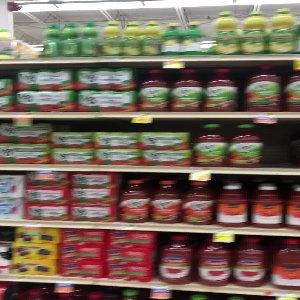void: (263, 117, 300, 172)
